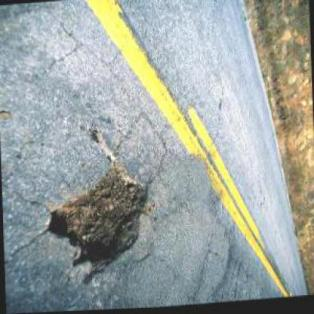Hueco: (40, 158, 154, 290)
